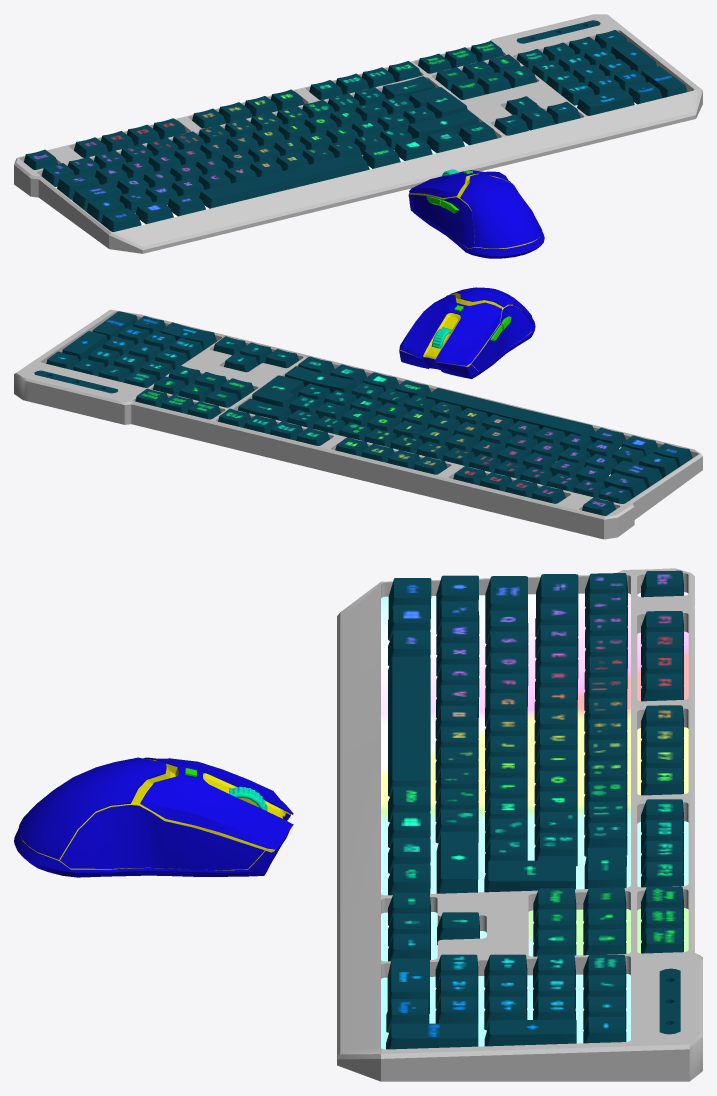
File: Final_Keyboard_Mouse.fbx
3 views of the same model, one above another, from view 1: azimuth 30°, elevation 25°; view 2: azimuth 150°, elevation 25°; view 3: azimuth 270°, elevation 25° (orthographic). The views are drawn at different scales.
Parts seen in each view (by area): view 1: Keyboard, Mouse_under_body; view 2: Keyboard, Mouse_under_body; view 3: Keyboard, Mouse_under_body.
Part boxes in pixels (left/top/right/bottom): Keyboard: left=14, top=14, right=702, bottom=253; Mouse_under_body: left=408, top=170, right=544, bottom=258; Keyboard: left=14, top=309, right=702, bottom=539; Mouse_under_body: left=399, top=287, right=535, bottom=378; Keyboard: left=337, top=568, right=702, bottom=1081; Mouse_under_body: left=14, top=757, right=293, bottom=877.
Bounding box in the file's own units: 224 × 17.86 × 136.
